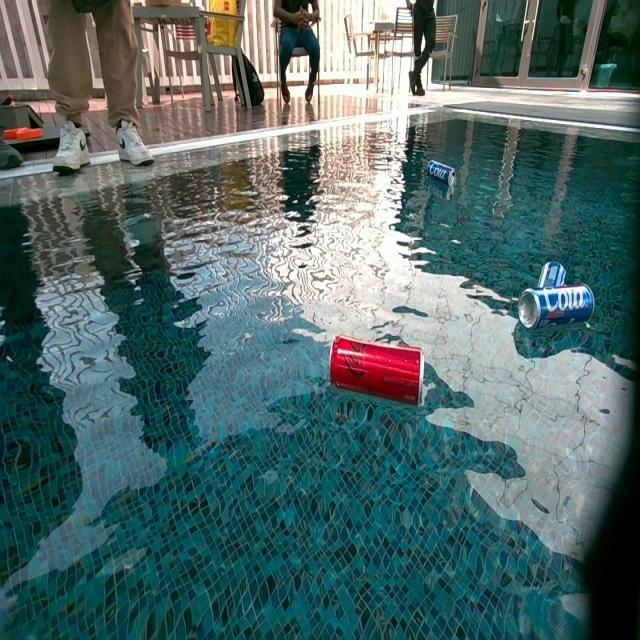Cans: (328, 336, 424, 408), (519, 285, 596, 333), (426, 160, 456, 187), (536, 262, 566, 288)
